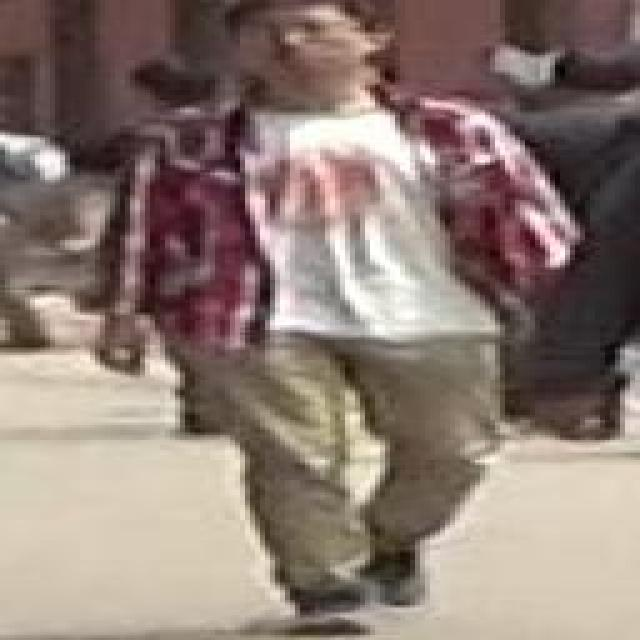adult: (94, 1, 585, 627)
